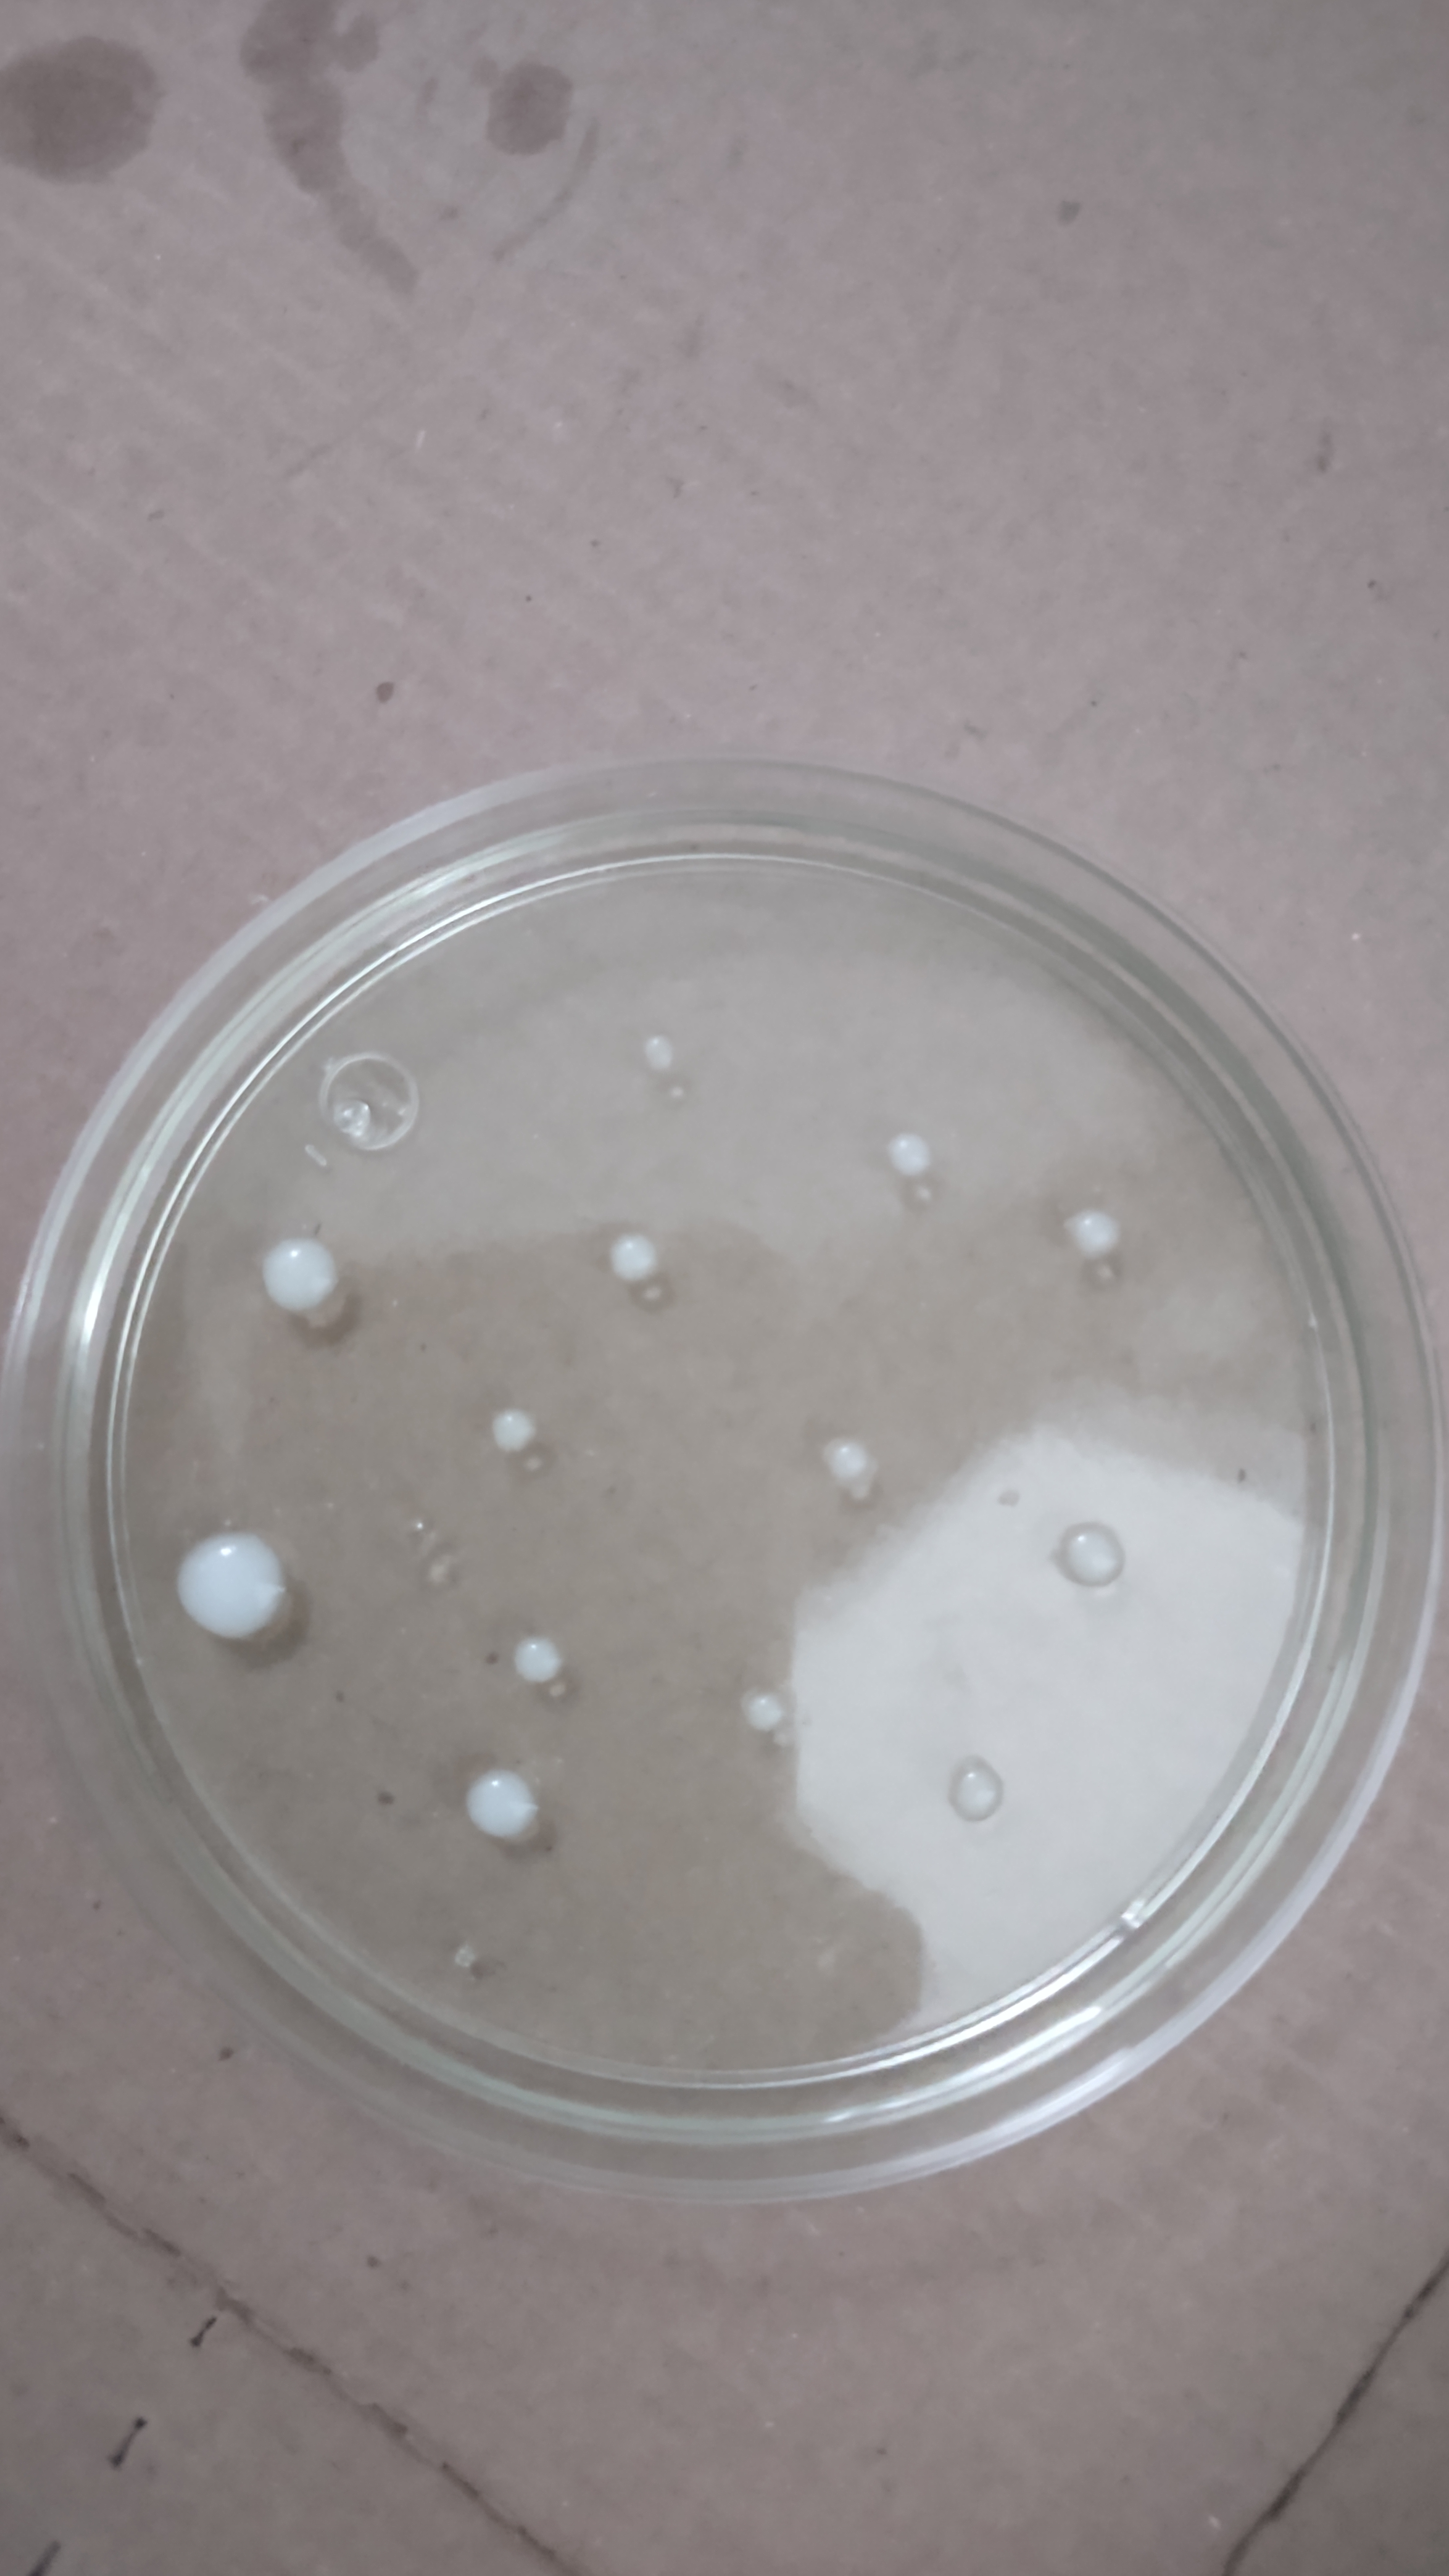Colonia: (175, 1534, 287, 1640), (462, 1764, 545, 1842), (1054, 1514, 1129, 1592), (262, 1231, 338, 1304), (823, 1437, 890, 1497), (943, 1755, 1005, 1819), (610, 1226, 656, 1286), (510, 1628, 566, 1675), (1067, 1207, 1123, 1253), (738, 1679, 786, 1732), (488, 1407, 540, 1454), (886, 1131, 932, 1180), (642, 1031, 676, 1065)
